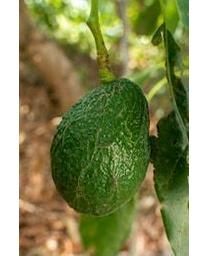avocado: (50, 78, 151, 217)
